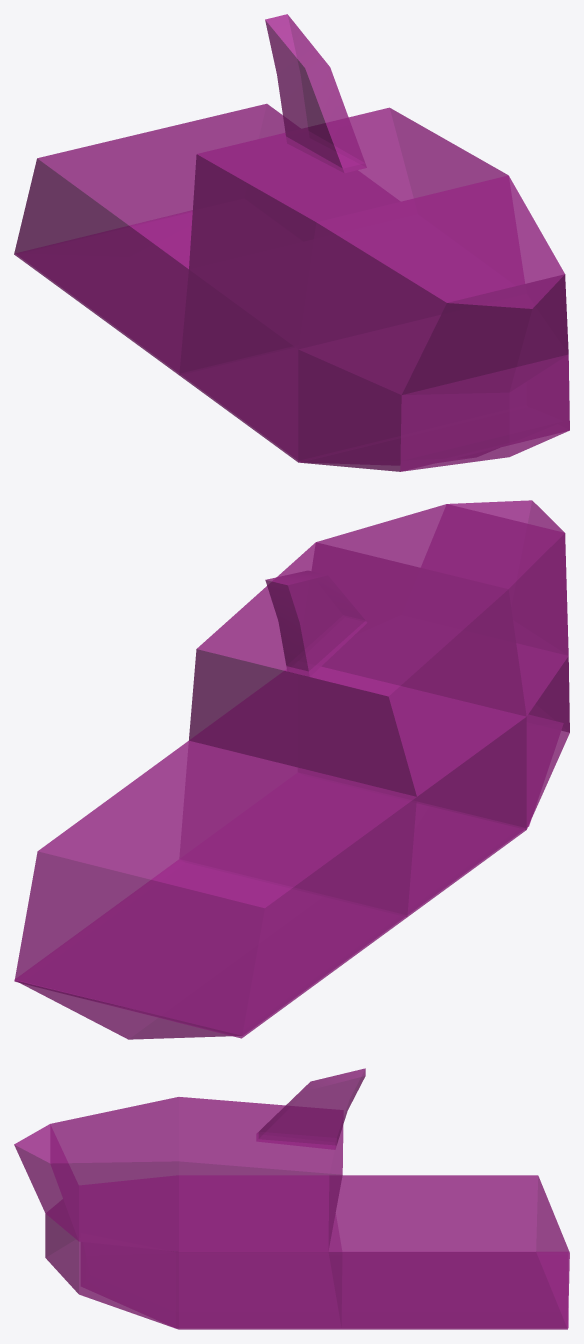
File: SM_Veh_Party_Boat_01_Collision.fbx
The picture shows the model from 3 angles, top to bottom: view 1: azimuth 30°, elevation 25°; view 2: azimuth 150°, elevation 25°; view 3: azimuth 270°, elevation 25°; orthographic projection. The views are drawn at different scales.
Parts seen in each view (by area): view 1: SM_Veh_Party_Boat_01_Collision; view 2: SM_Veh_Party_Boat_01_Collision; view 3: SM_Veh_Party_Boat_01_Collision.
Part boxes in pixels (box(x1,y1,x2,y2)): SM_Veh_Party_Boat_01_Collision: box(14, 14, 569, 471); SM_Veh_Party_Boat_01_Collision: box(14, 500, 569, 1039); SM_Veh_Party_Boat_01_Collision: box(14, 1068, 569, 1329).
Size of the model in its own units: 355 by 518 by 1089.
